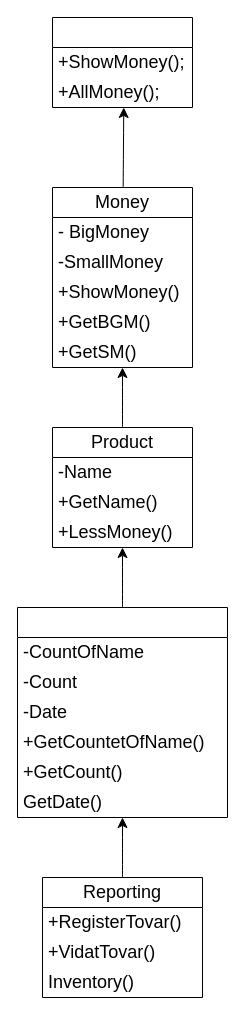
Some shapes in this 245 by 1015 pixel diagram are drawn without their labels. The shapes that lost their labels are listed below. From the top down, each one's box as (x1, y1, x2, y2) in pixels, then its label:
(52, 16, 192, 108): IMoney
(16, 606, 228, 818): Warehouse
